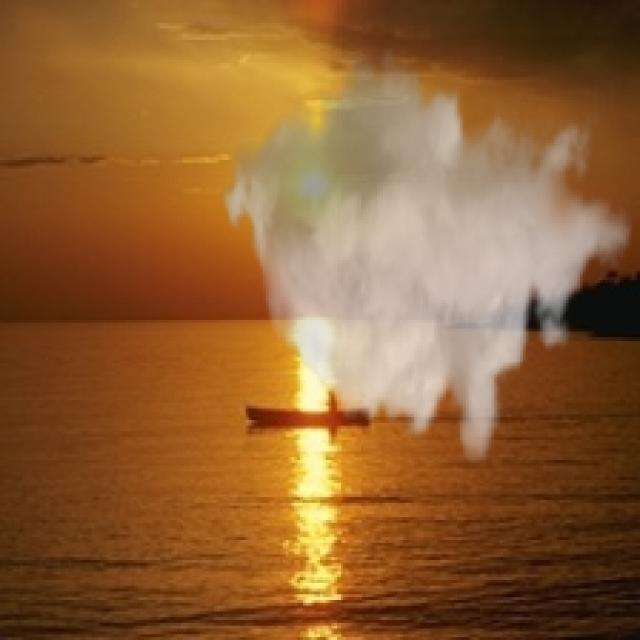smoke: (220, 43, 634, 468)
